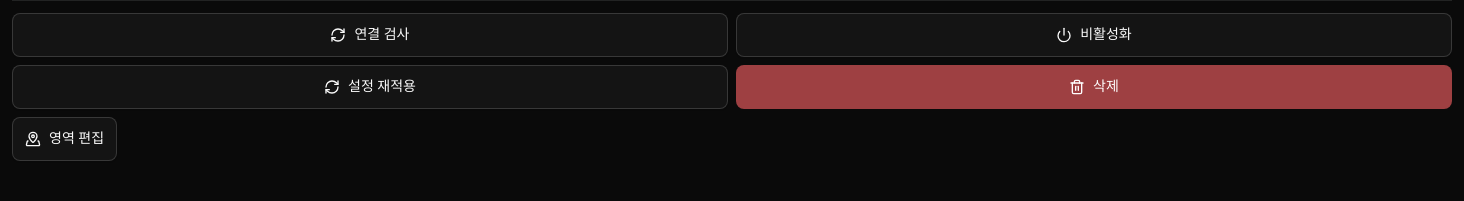
Test: CameraActions › does not report an unapplied runtime action as success
Click the button "설정 재적용" at (370,87), box [12,65,728,109]
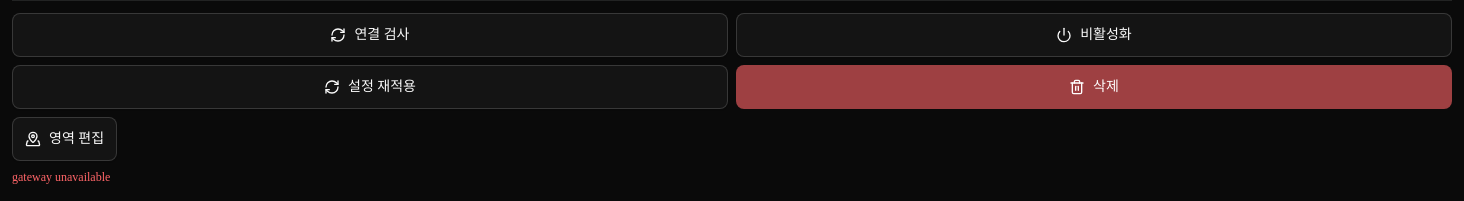
Expected: the message reads "gateway unavailable", [12,170,110,184]
